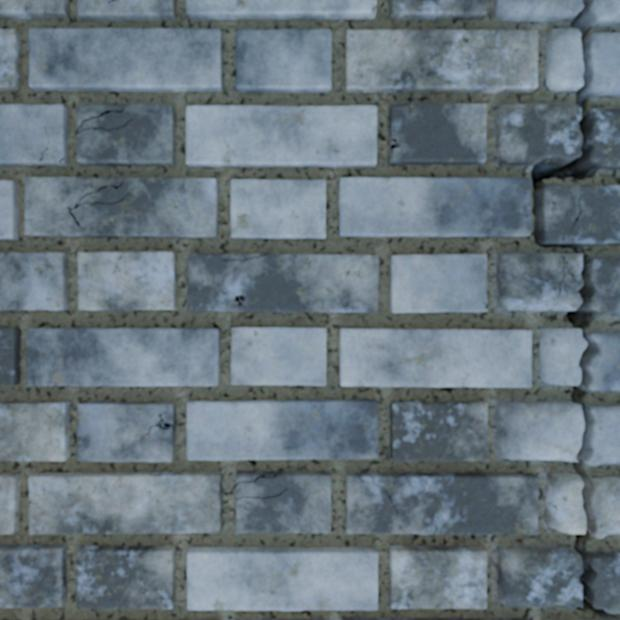brick: (29, 28, 221, 91), (346, 30, 536, 92), (187, 547, 376, 609), (29, 472, 221, 533), (346, 473, 537, 533), (186, 106, 375, 166), (25, 177, 216, 236), (187, 400, 376, 459), (339, 178, 530, 236), (27, 328, 218, 385), (340, 329, 530, 386), (188, 254, 377, 311), (77, 546, 174, 608), (389, 546, 486, 608), (236, 29, 330, 91), (77, 104, 174, 164), (389, 103, 485, 163), (77, 402, 174, 461), (236, 472, 330, 532), (390, 402, 487, 460), (78, 252, 175, 309), (231, 180, 324, 238), (390, 255, 486, 311), (231, 328, 325, 384), (539, 185, 619, 243), (0, 544, 65, 606), (0, 105, 67, 164), (0, 402, 68, 460), (0, 253, 67, 309), (187, 0, 375, 19), (78, 0, 174, 20), (390, 0, 486, 19), (0, 0, 68, 18), (0, 29, 20, 90), (0, 474, 19, 533), (0, 328, 19, 384), (0, 181, 18, 238), (343, 618, 504, 619), (262, 618, 283, 619), (602, 618, 619, 619)
broken_brick: (497, 546, 581, 611), (495, 401, 582, 462), (495, 103, 580, 165), (496, 253, 581, 311), (539, 327, 585, 385), (545, 28, 582, 92), (546, 472, 584, 534), (586, 550, 619, 614), (587, 32, 619, 96), (587, 107, 619, 169), (586, 405, 619, 465), (494, 0, 581, 22), (586, 332, 619, 390), (591, 476, 619, 539), (590, 256, 619, 315), (588, 0, 619, 27)
crack: (523, 0, 617, 618), (76, 106, 133, 134), (235, 486, 289, 500), (235, 473, 277, 485), (220, 253, 267, 261), (390, 138, 400, 153), (369, 435, 376, 444), (391, 103, 408, 106), (482, 301, 487, 309), (106, 0, 114, 4), (30, 501, 36, 504)
